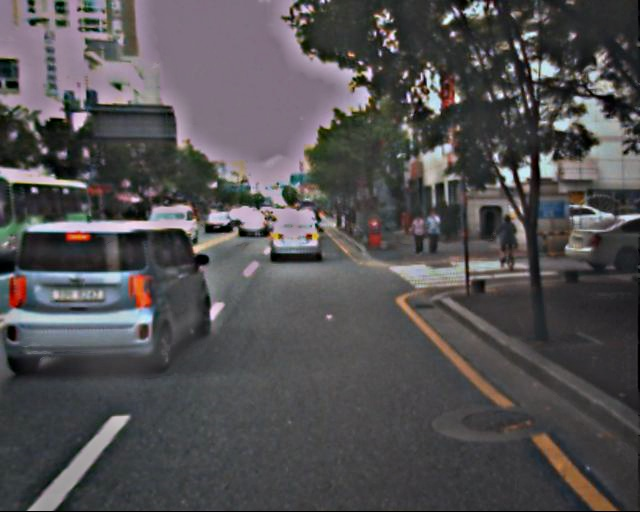person: (498, 214, 520, 267), (425, 209, 445, 257), (411, 215, 427, 254)
